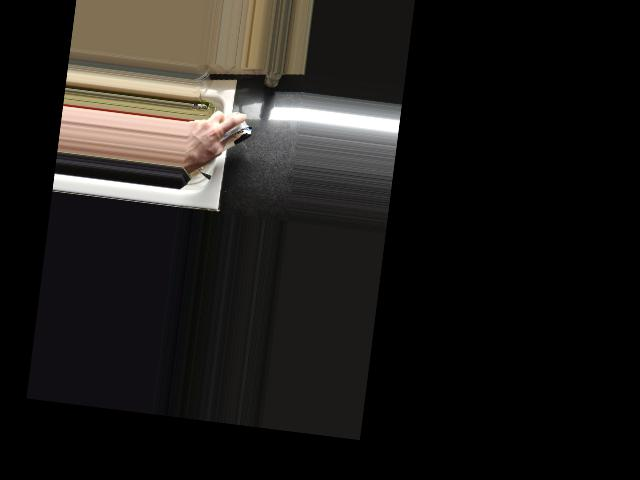cheese: (187, 109, 256, 163)
